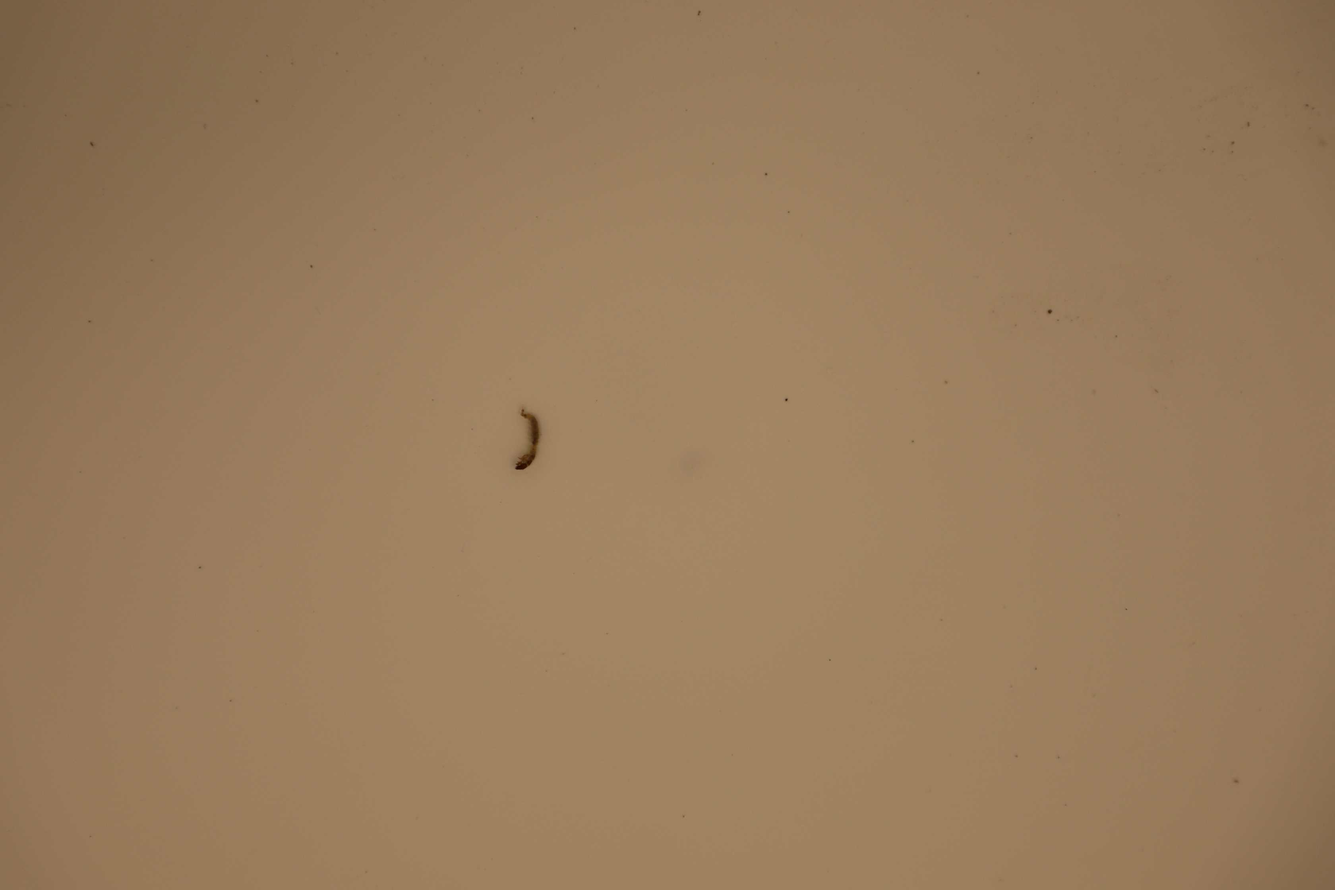Cadisfly: (507, 406, 548, 476)
